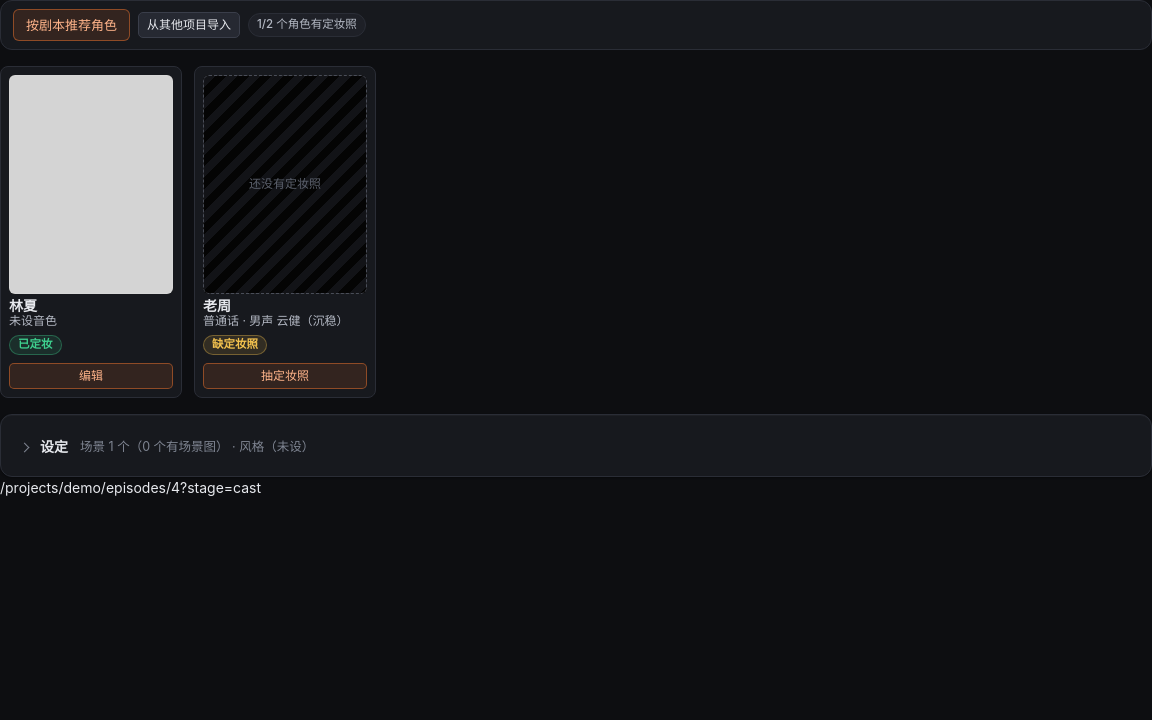
Scenario: CastStage › 点卡片或「编辑」打开角色抽屉（?char=，不记历史）；关闭去掉 ?char=
Click the button with aria-label "编辑 林夏": point(91, 376) x1=9 y1=363 x2=173 y2=389
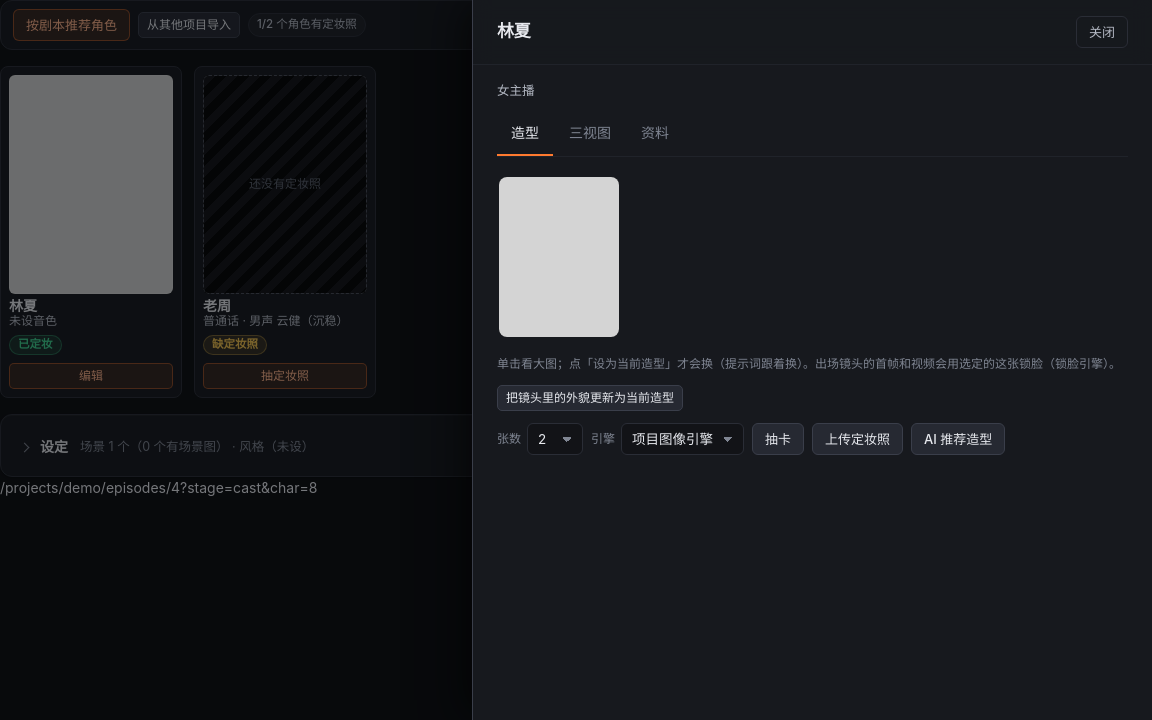
Check: the text with test id "location" reads "/projects/demo/episodes/4?stage=cast&char=8", box x1=0 y1=479 x2=317 y2=496
Click the button "关闭": point(1102, 32) x1=1076 y1=16 x2=1128 y2=48
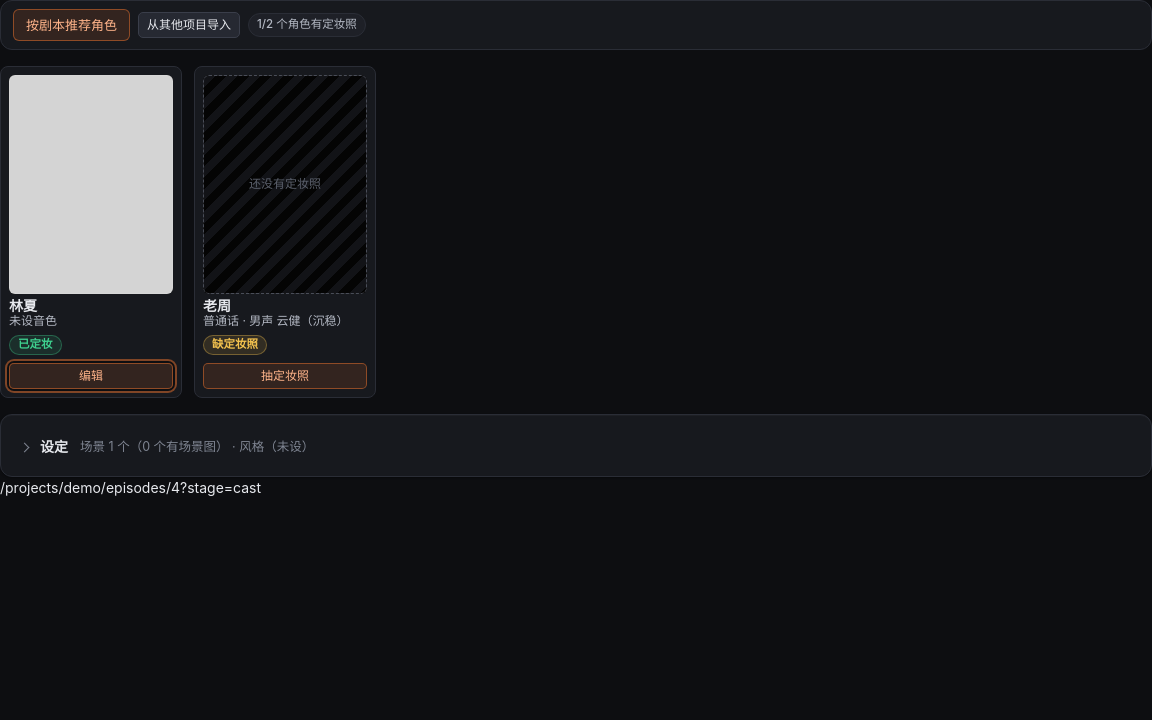
Check: the dialog is gone
Check: the text with test id "location" reads "/projects/demo/episodes/4?stage=cast", box x1=0 y1=479 x2=261 y2=496
Click the button named "打开 老周": point(285, 201) x1=203 y1=75 x2=367 y2=327
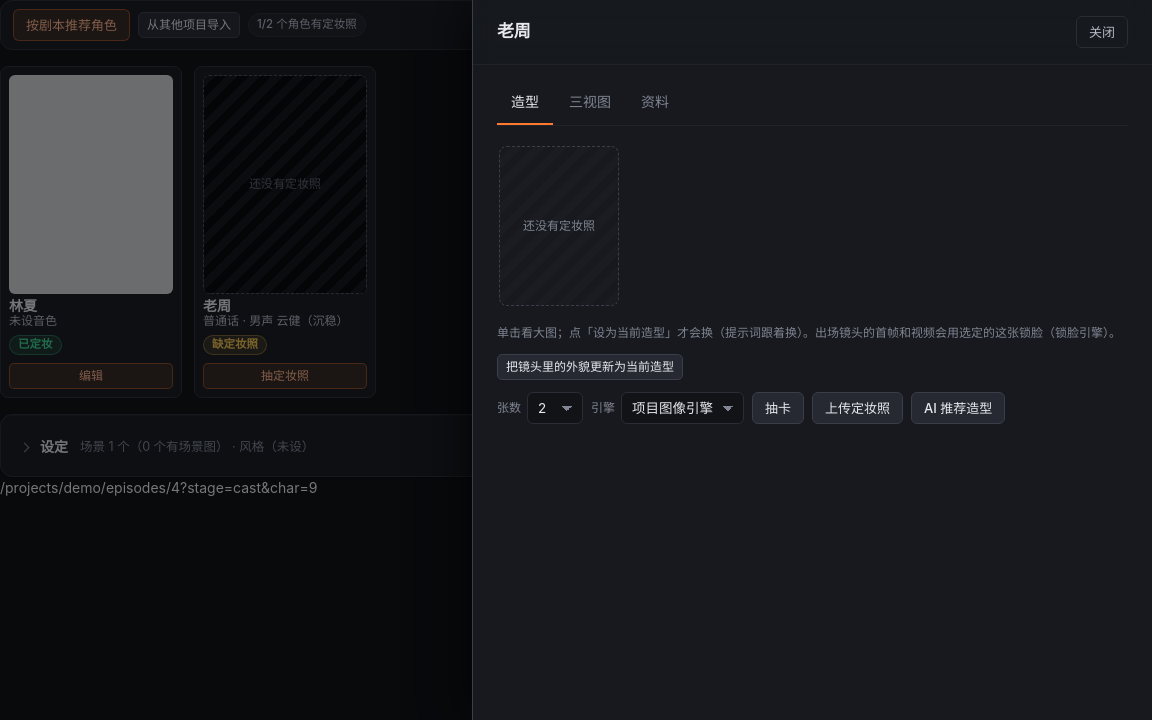
Check: the dialog named "角色 老周" is shown, box x1=472 y1=0 x2=1151 y2=719
Check: the text with test id "location" reads "/projects/demo/episodes/4?stage=cast&char=9", box x1=0 y1=479 x2=318 y2=496
